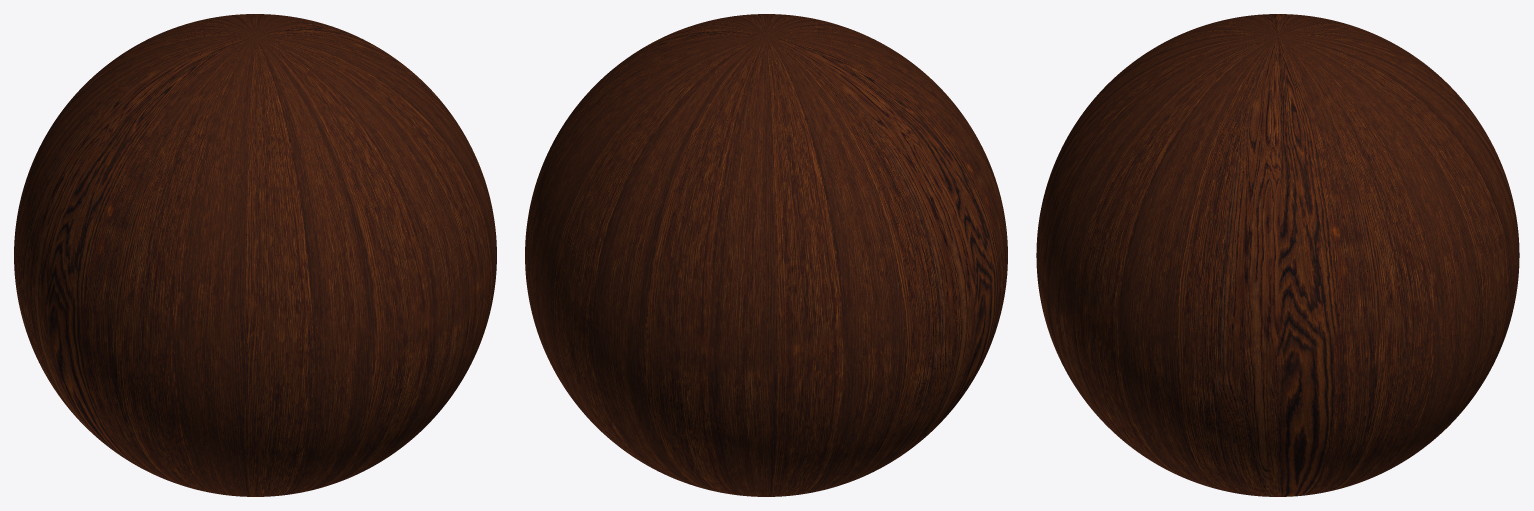
The model's file is wood_table_001_4k.gltf.
3 views of the same model, side by side, from view 1: azimuth 30°, elevation 25°; view 2: azimuth 150°, elevation 25°; view 3: azimuth 270°, elevation 25° (orthographic).
Parts seen in each view (by area): view 1: sphere_gltf; view 2: sphere_gltf; view 3: sphere_gltf.
Part boxes in pixels (x1,y1,x2,y2): sphere_gltf: (14,14,496,496); sphere_gltf: (525,14,1007,496); sphere_gltf: (1036,14,1519,496).
Bounding box in the file's own units: 1.5 × 1.5 × 1.5.
